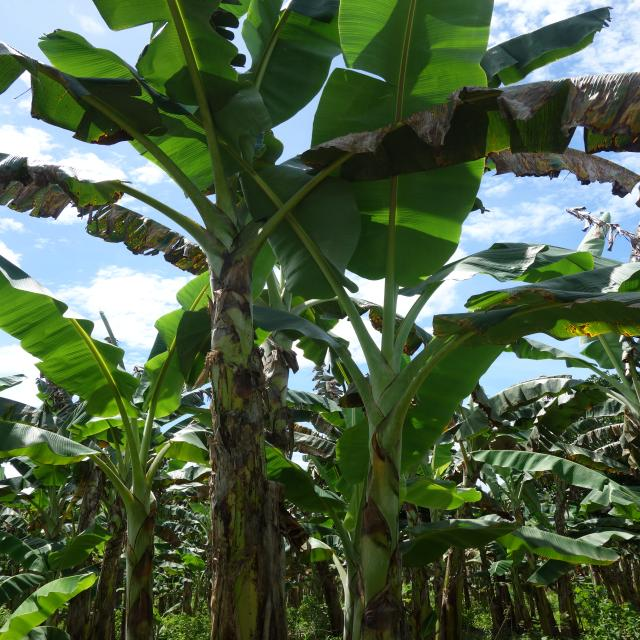Banana-plant: (192, 171, 288, 638), (332, 320, 448, 640), (110, 441, 170, 640)
